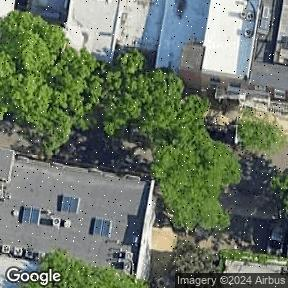vegetation: (41, 250, 147, 288), (231, 111, 285, 160)
